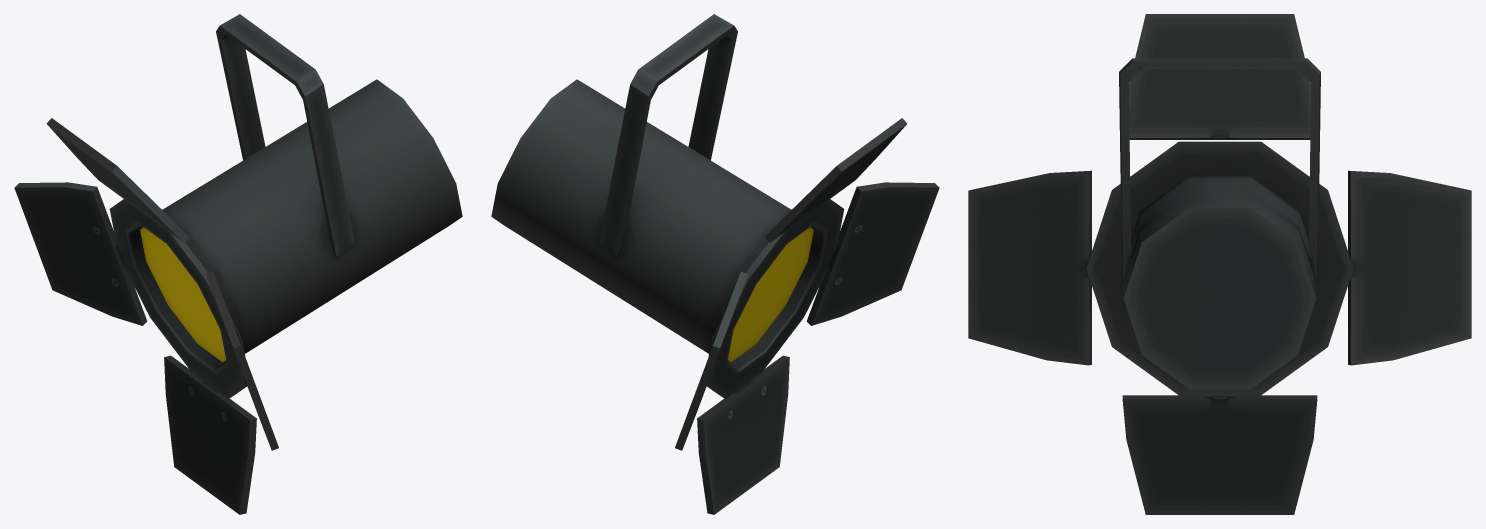
File: foco.fbx
3 views of the same model, side by side, from view 1: azimuth 30°, elevation 25°; view 2: azimuth 150°, elevation 25°; view 3: azimuth 270°, elevation 25° (orthographic). The views are drawn at different scales.
Visible parts, largest first — view 1: Foco; view 2: Foco; view 3: Foco.
Part boxes in pixels (x1,y1,x2,y2): Foco: (14,14,462,514); Foco: (491,14,939,514); Foco: (968,14,1471,514).
Bounding box in the file's own units: 24.74 × 28.52 × 26.57.
